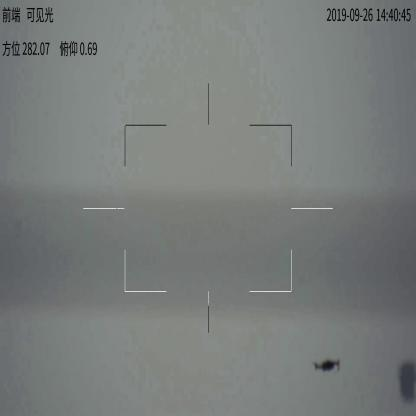uav: (309, 355, 344, 373)
